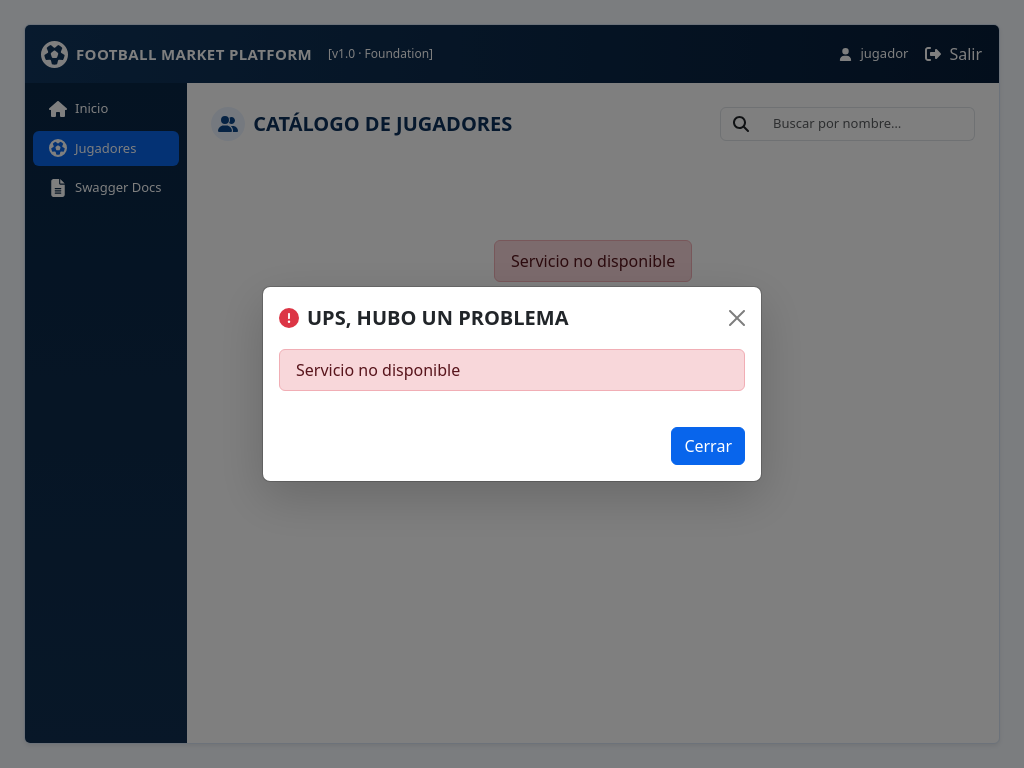
catálogo de jugadores › muestra un aviso cuando falla la API
Expected: the dialog shows "Servicio no disponible", [296,359,460,381]
Step 1. Click the button named "Cerrar aviso" → (737, 318), box [721,302,753,334]
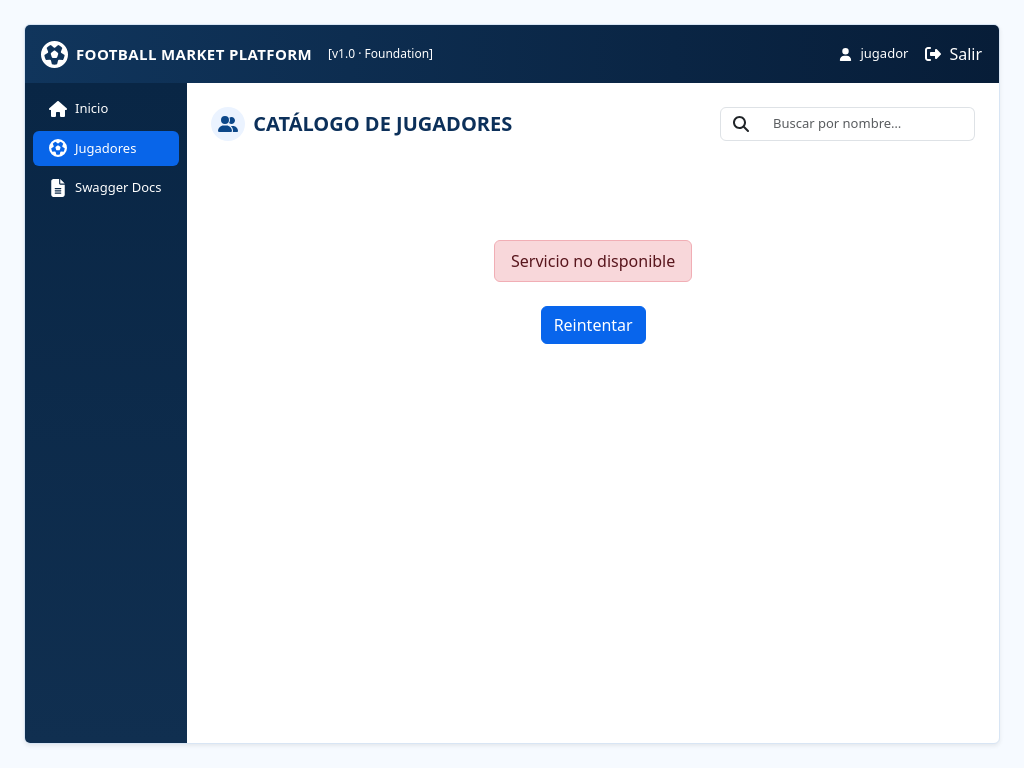
Expected: the dialog is gone
